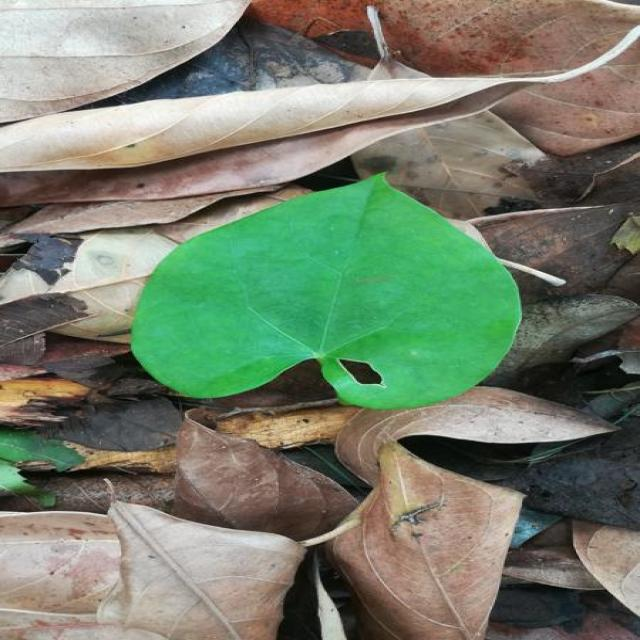Amruthaballi: (132, 175, 520, 409)
defectedAmruthaballi: (132, 176, 520, 394), (257, 275, 488, 408)
